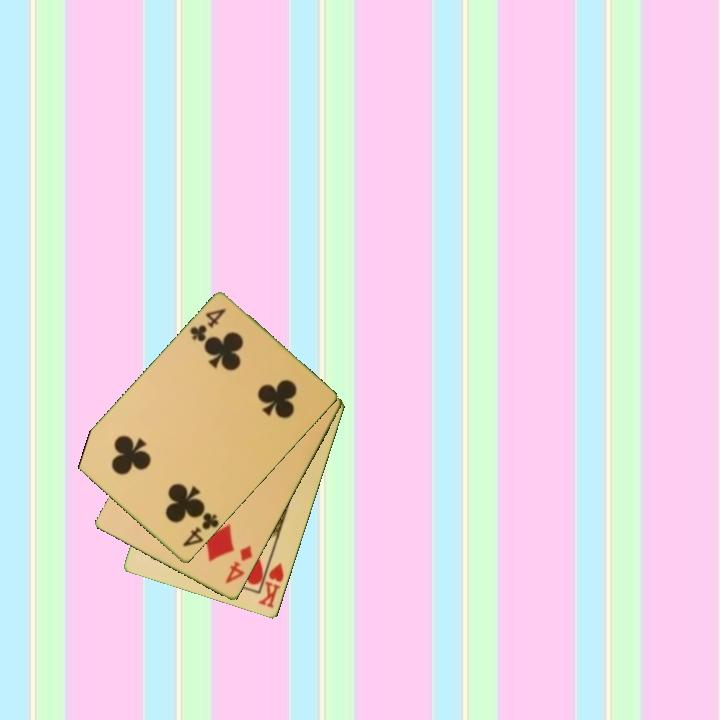4c: (179, 509, 222, 550), (186, 305, 229, 345)
4d: (222, 542, 255, 587)
Kh: (255, 553, 287, 611)
